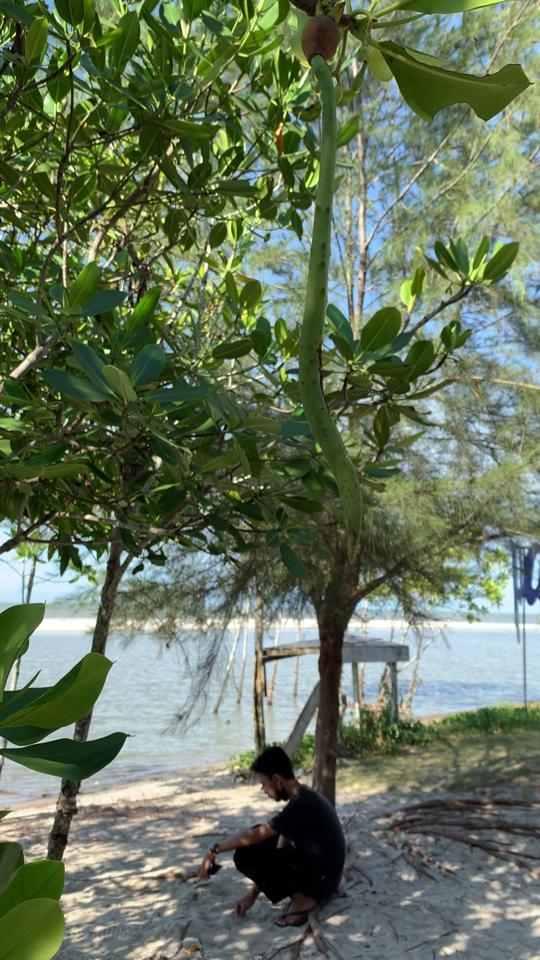setengah matang: (287, 3, 374, 573)
